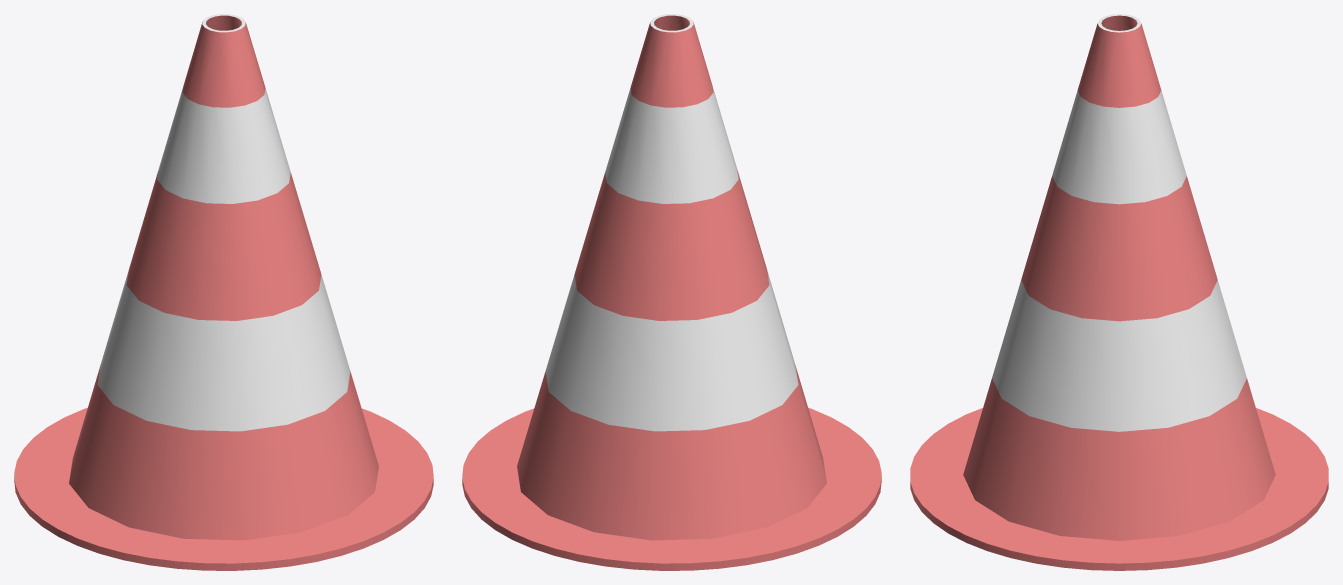
The model's file is static.glb.
3 renders of one model, left to right at view 1: azimuth 30°, elevation 25°; view 2: azimuth 150°, elevation 25°; view 3: azimuth 270°, elevation 25°, orthographic.
Visible parts, largest first — view 1: static; view 2: static; view 3: static.
Boxes of the visible parts, x1,y1,x2,y2 form: static: (14,14,433,570); static: (462,14,881,570); static: (910,14,1328,570).
Bounding box in the file's own units: 1.07 × 1.29 × 1.07.
